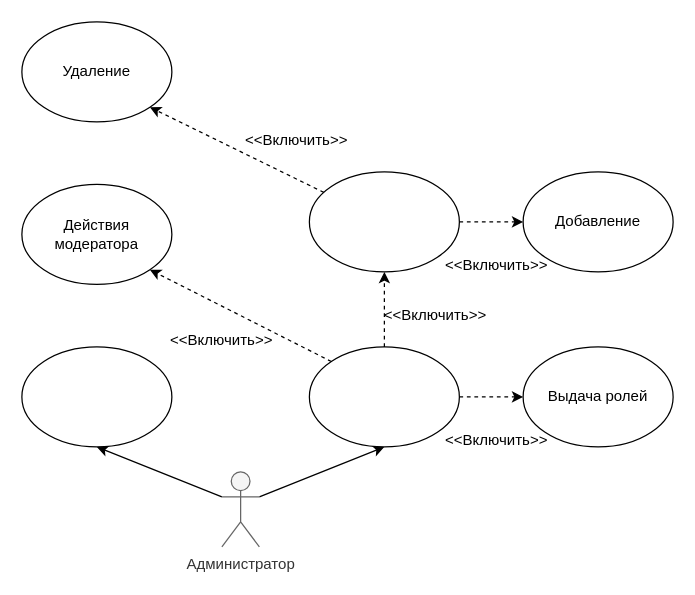
Some shapes in this 695 by 595 pixel diagram are drawn without their labels. The shapes that lost their labels are listed below. From the top down, each one's centre as x and y in pixels, then its label:
At point 383,221: "Работа с тегами".
At point 96,396: "Действия пользователя".
At point 383,396: "Модерация".
